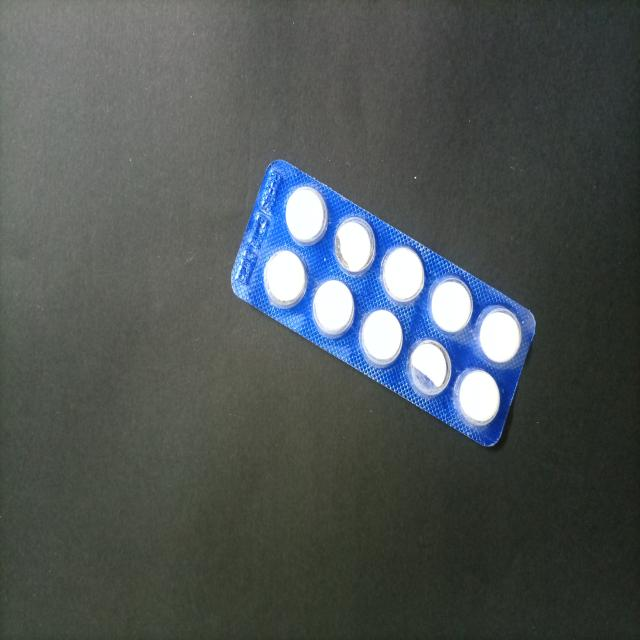defect: (332, 214, 378, 278), (406, 336, 452, 398)
